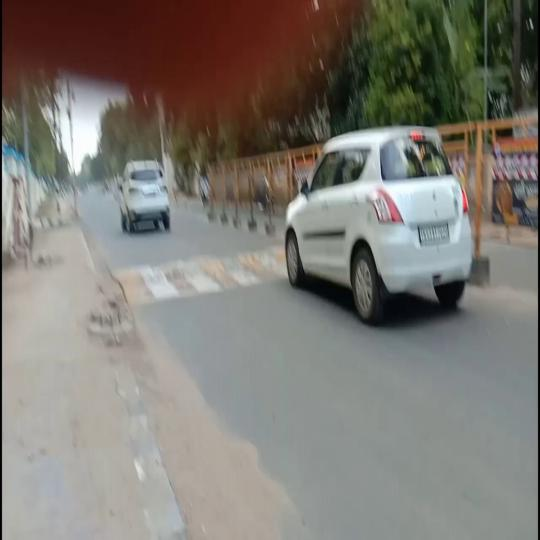Speed Bump: (111, 244, 285, 309)
